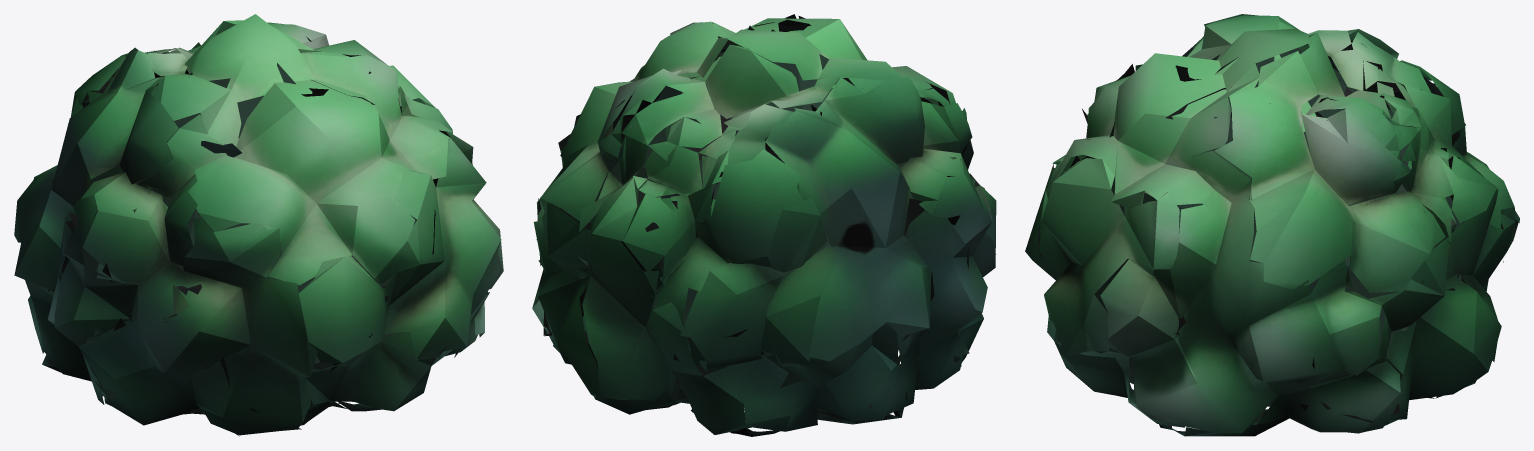
File: bush_round.fbx
3 renders of one model, left to right at view 1: azimuth 30°, elevation 25°; view 2: azimuth 150°, elevation 25°; view 3: azimuth 270°, elevation 25°, orthographic.
Parts seen in each view (by area): view 1: bush_round; view 2: bush_round; view 3: bush_round.
Part boxes in pixels (x1,y1,x2,y2): bush_round: [14, 14, 503, 436]; bush_round: [532, 14, 996, 436]; bush_round: [1025, 14, 1519, 436].
Bounding box in the file's own units: 0.5327 × 0.4051 × 0.5474.
Materials: 1 (1 with a texture image).
